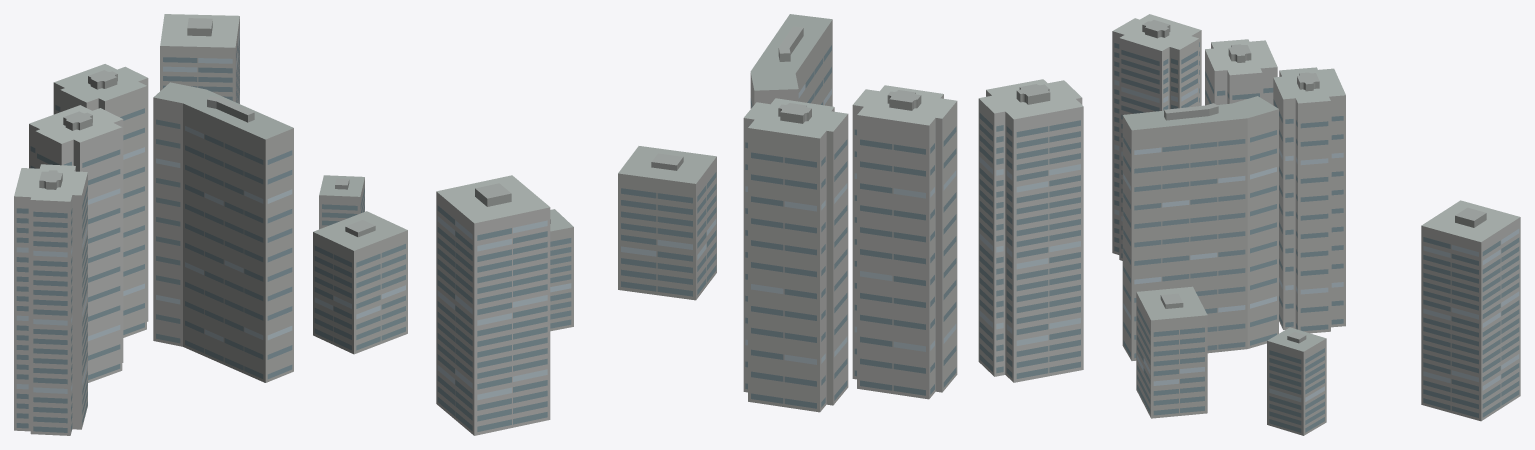
The model's file is apt-a13706001.glb.
3 views of the same model, side by side, from view 1: azimuth 30°, elevation 25°; view 2: azimuth 150°, elevation 25°; view 3: azimuth 270°, elevation 25° (orthographic). The views are drawn at different scales.
Visible parts, largest first — view 1: apt-a13706001; view 2: apt-a13706001; view 3: apt-a13706001.
Boxes of the visible parts, box(x1,y1,x2,y2) form: apt-a13706001: box(14, 14, 407, 435); apt-a13706001: box(436, 14, 1083, 435); apt-a13706001: box(1112, 14, 1520, 435).
Size of the model in its own units: 146 by 81 by 126.
